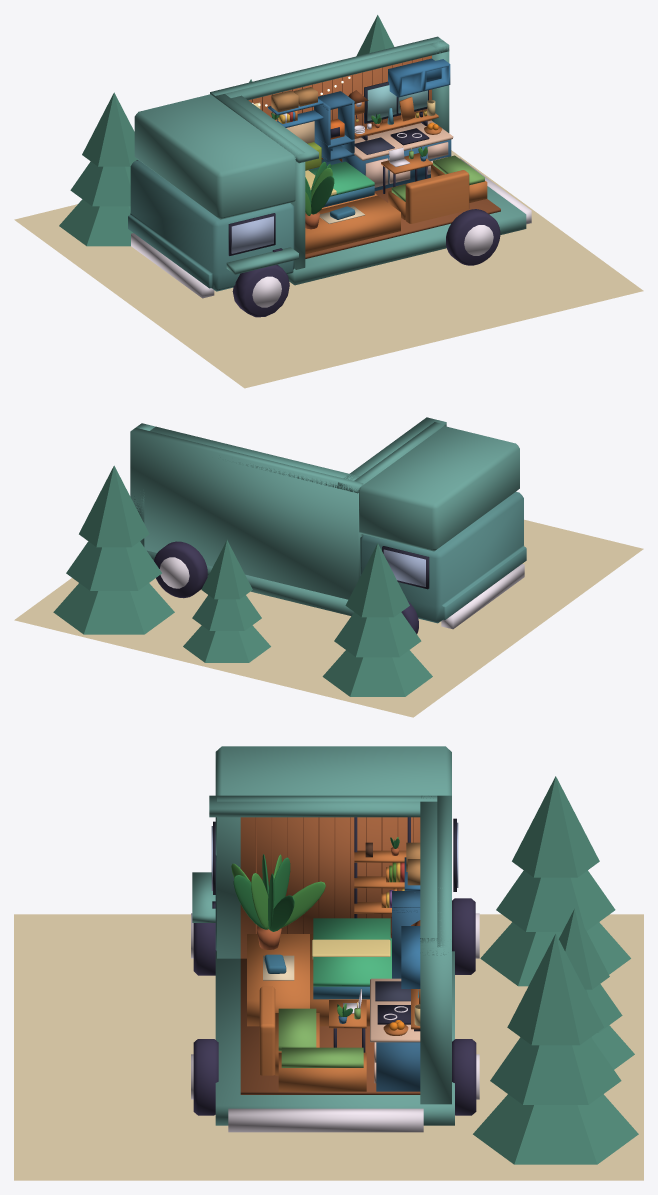
File: Van10_10.glb
The picture shows the model from 3 angles, top to bottom: view 1: azimuth 30°, elevation 25°; view 2: azimuth 150°, elevation 25°; view 3: azimuth 270°, elevation 25°; orthographic projection. The views are drawn at different scales.
Parts seen in each view (by area): view 1: Luton.198, Ground, Tree.003, Luton.050, Luton.046, Tree.002, Luton.047, Luton.051; view 2: Luton.198, Ground, Tree.002, Tree.003, Tree.006, Luton.052, Luton.053; view 3: Luton.198, Ground, Tree.002, Tree.003, Tree.006, Luton.050, Luton.052, Luton.038, Luton.046.
Boxes of the visible parts, bbox=[...] form: Luton.198: bbox=[128, 36, 531, 298]; Ground: bbox=[14, 150, 643, 388]; Tree.003: bbox=[59, 92, 137, 246]; Luton.050: bbox=[446, 209, 500, 265]; Luton.046: bbox=[232, 264, 289, 317]; Tree.002: bbox=[356, 15, 394, 56]; Luton.047: bbox=[252, 276, 281, 307]; Luton.051: bbox=[464, 225, 493, 255]; Luton.198: bbox=[130, 417, 526, 629]; Ground: bbox=[14, 519, 643, 717]; Tree.002: bbox=[53, 465, 174, 634]; Tree.003: bbox=[322, 543, 432, 696]; Tree.006: bbox=[183, 540, 270, 662]; Luton.052: bbox=[154, 541, 207, 598]; Luton.053: bbox=[159, 557, 189, 588]; Luton.198: bbox=[192, 746, 458, 1132]; Ground: bbox=[14, 914, 643, 1180]; Tree.002: bbox=[473, 933, 638, 1164]; Tree.003: bbox=[480, 776, 630, 986]; Tree.006: bbox=[559, 908, 634, 1069]; Luton.050: bbox=[193, 1039, 218, 1115]; Luton.052: bbox=[452, 1039, 476, 1115]; Luton.038: bbox=[452, 898, 475, 974]; Luton.046: bbox=[193, 923, 216, 975].
Size of the model in its own units: 10 by 3.55 by 10.
